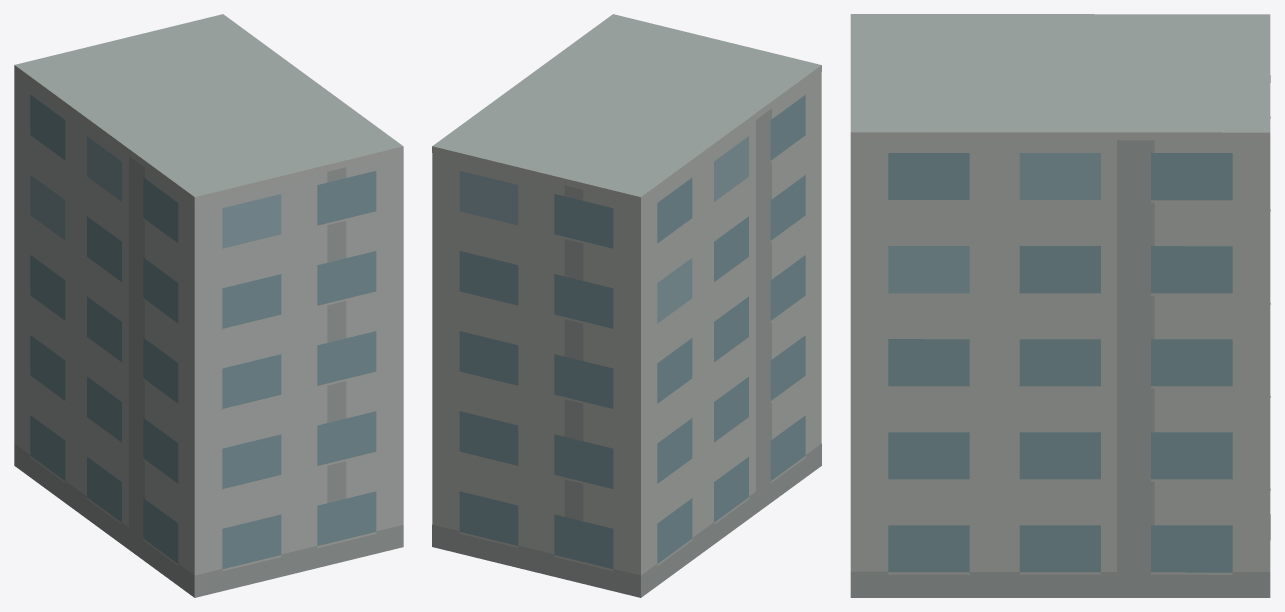
File: survey-upis-32523999.glb
3 renders of one model, left to right at view 1: azimuth 30°, elevation 25°; view 2: azimuth 150°, elevation 25°; view 3: azimuth 270°, elevation 25°, orthographic. The views are drawn at different scales.
Visible parts, largest first — view 1: survey-upis-32523999.tmp; view 2: survey-upis-32523999.tmp; view 3: survey-upis-32523999.tmp.
Boxes of the visible parts, box(x1,y1,x2,y2) form: survey-upis-32523999.tmp: box(14, 14, 403, 597); survey-upis-32523999.tmp: box(432, 14, 821, 597); survey-upis-32523999.tmp: box(850, 14, 1270, 597).
Bounding box in the file's own units: 7.78 × 14.2 × 11.63.
